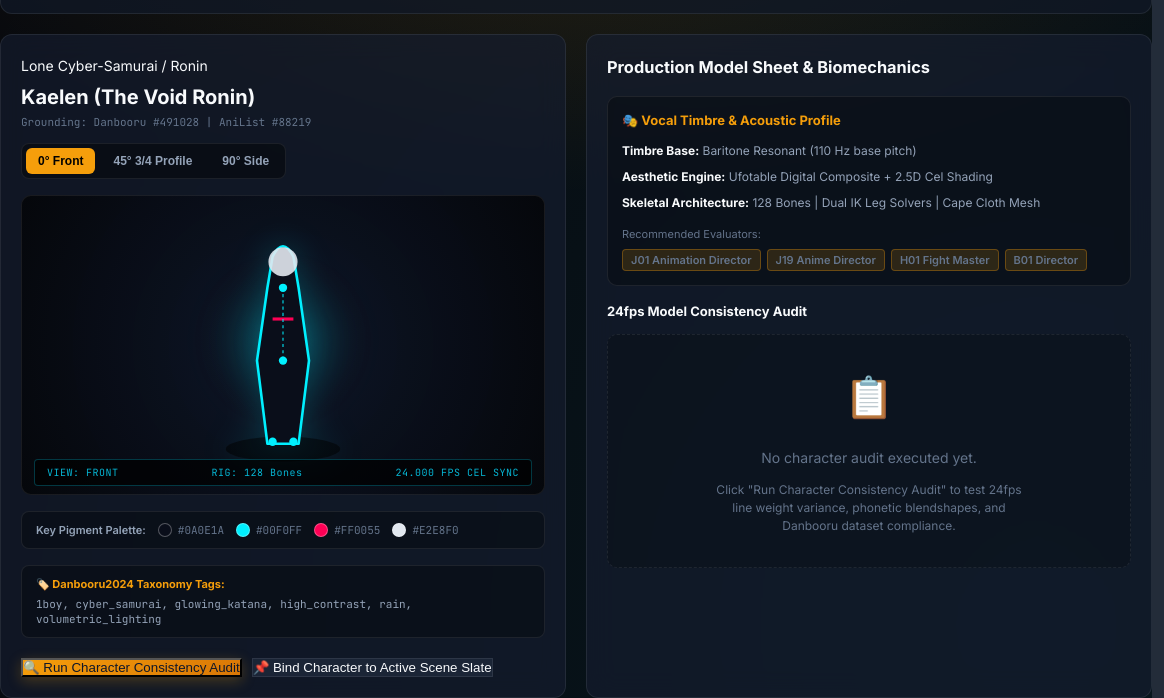
it: AnimationCharacterStudio Component › binds selected anime character to production slate
The width and height of the screenshot is (1164, 698).
(page scrolled)
What coordinates should you click on to do the following:
click the button "📌 Bind Character to Active Scene Slate"
I would click on:
 (372, 668)
Its box is [252,658,493,678].
(page scrolled)
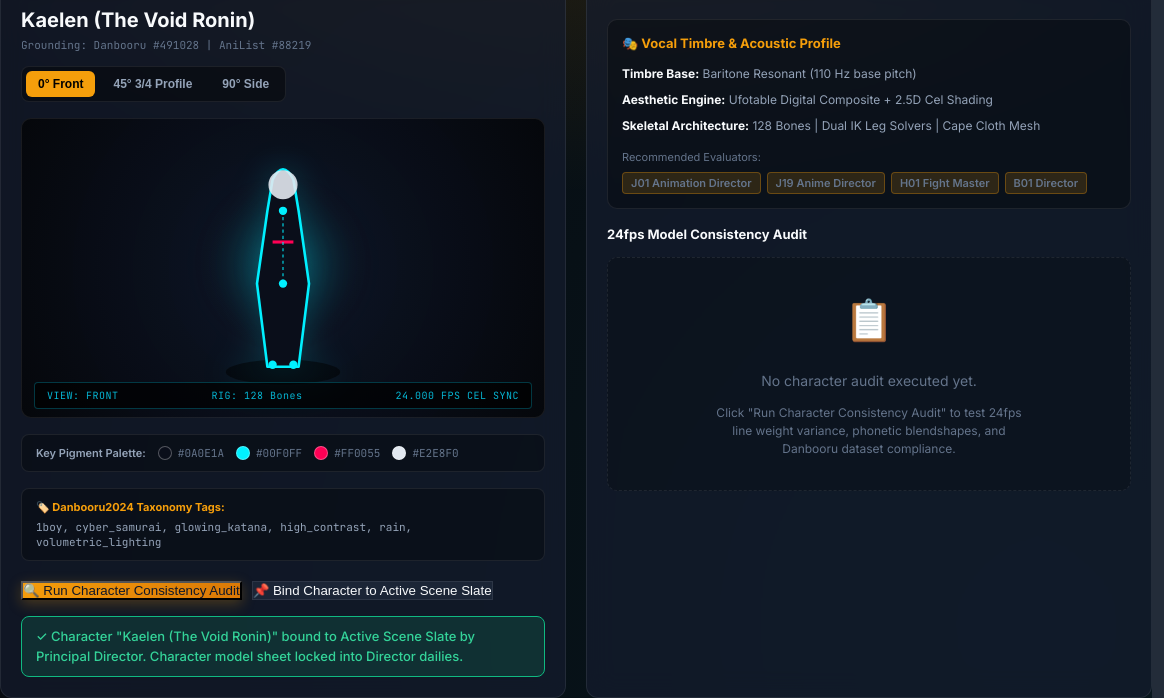
Expected: the text "bound to Active Scene" is shown, [36,628,475,664]
